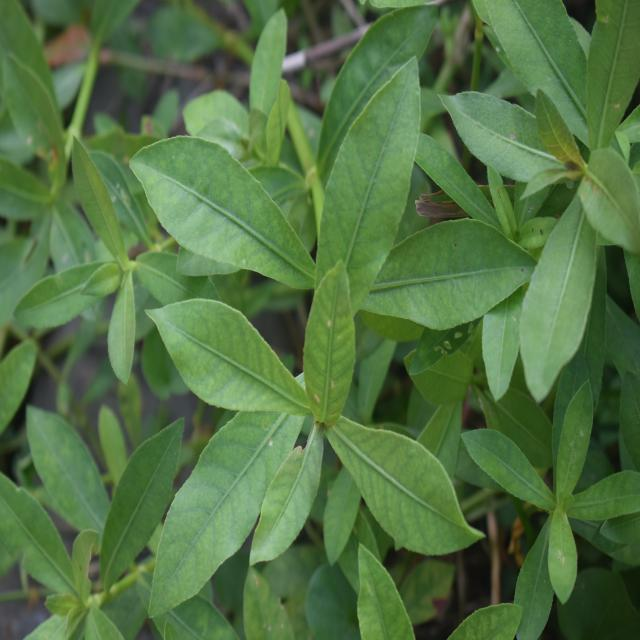Alligatorweed: (150, 87, 502, 577)
